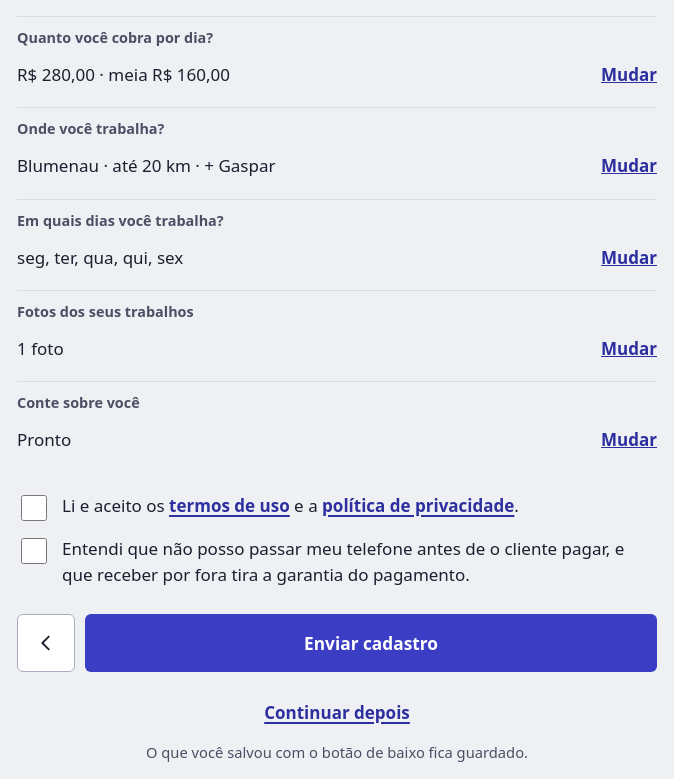
Test: etapa 11: Pix, revisão e envio › Pix já guardado: mostra mascarado e envia sem novo PUT
(page scrolled)
Click the checkbox labelled "Li e aceito os termos de uso e a política de privacidade ." at (34, 508), box [21,495,47,521]
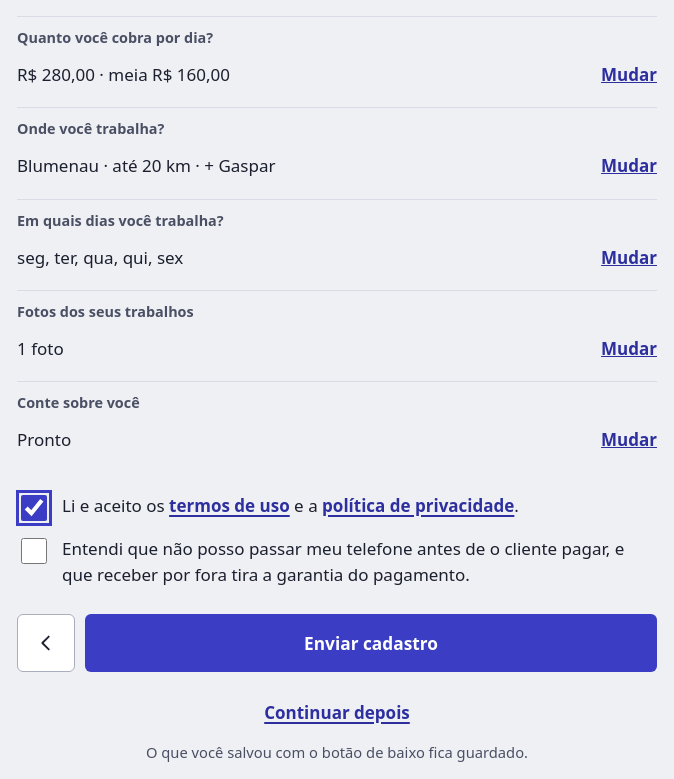
Click the checkbox labelled "não posso passar meu telefone" at (34, 551), box [21,538,47,564]
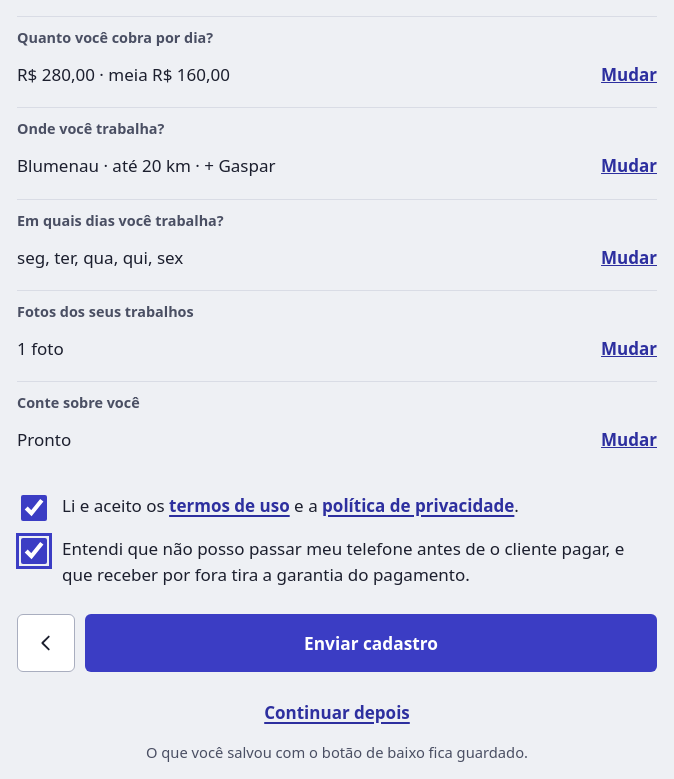
Click the button "Enviar cadastro" at (371, 643), box [85,614,657,672]
(page scrolled)
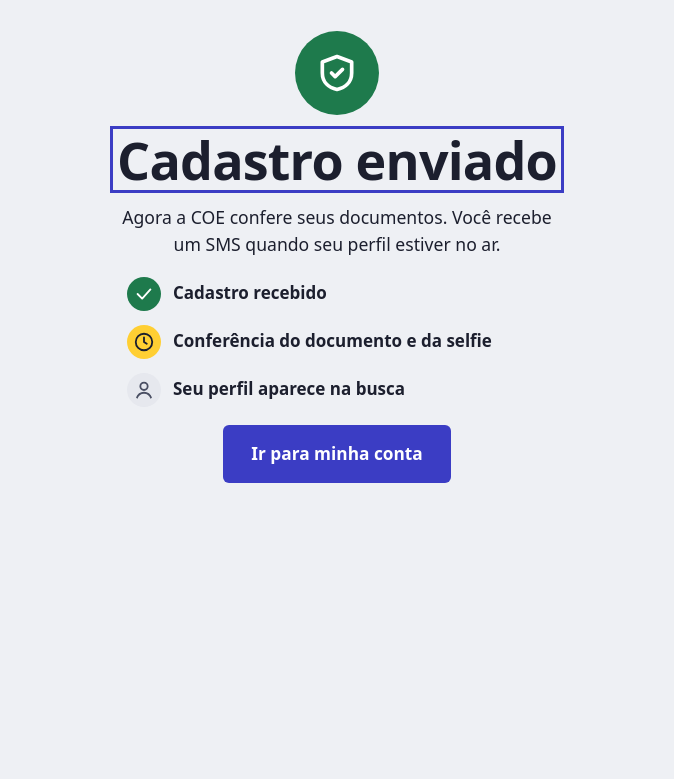
Check: the heading "Cadastro enviado" is shown, box [117,133,557,186]
